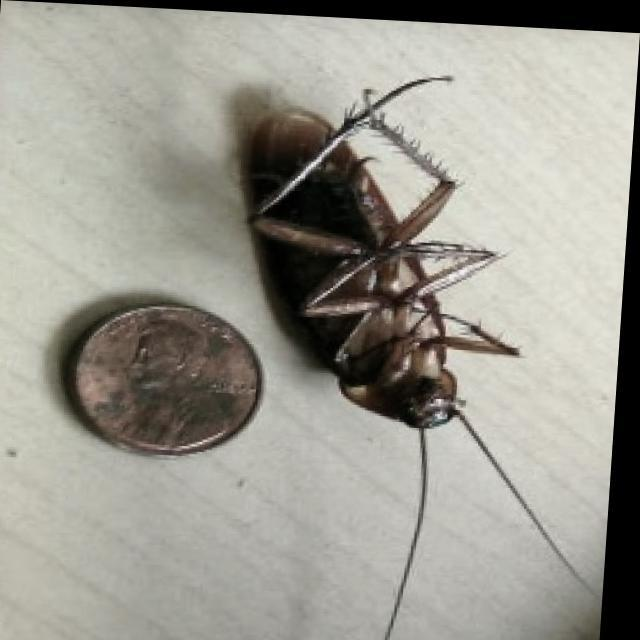cockroach: (232, 64, 532, 504)
